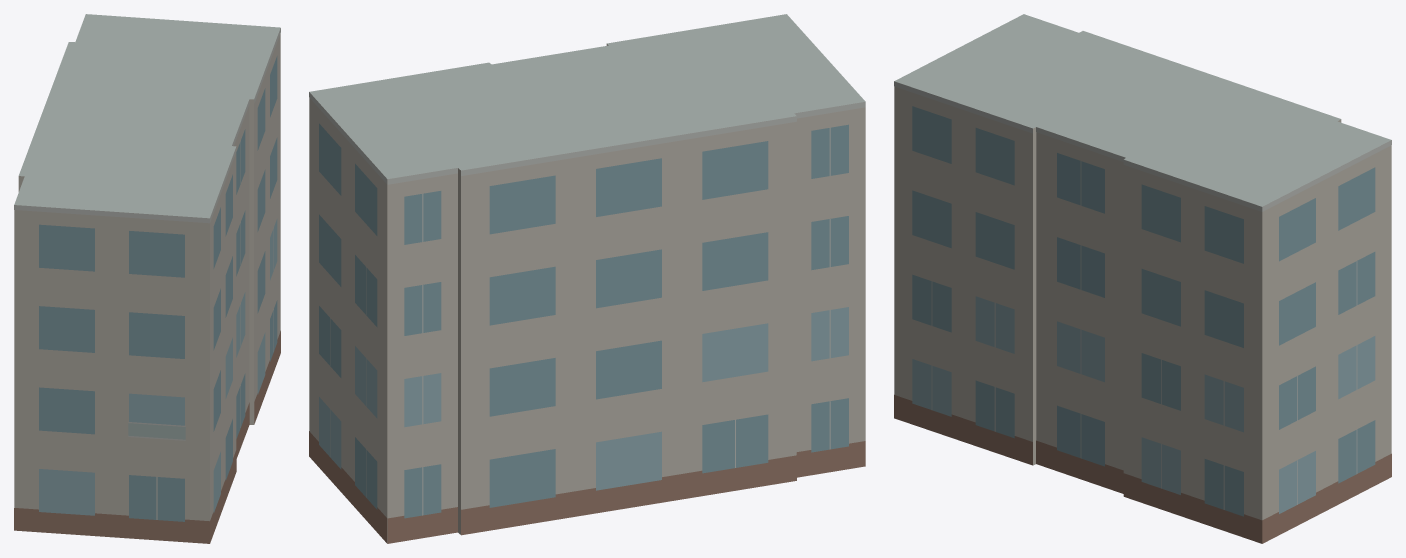
File: survey-upis-32968040.glb
The picture shows the model from 3 angles, left to right: view 1: azimuth 30°, elevation 25°; view 2: azimuth 150°, elevation 25°; view 3: azimuth 270°, elevation 25°; orthographic projection. The views are drawn at different scales.
Visible parts, largest first — view 1: survey-upis-32968040.tmp; view 2: survey-upis-32968040.tmp; view 3: survey-upis-32968040.tmp.
Part boxes in pixels (x1,y1,x2,y2): survey-upis-32968040.tmp: [14, 14, 280, 543]; survey-upis-32968040.tmp: [309, 14, 865, 543]; survey-upis-32968040.tmp: [894, 14, 1391, 543].
Size of the model in its own units: 19.58 by 15.95 by 21.35.
